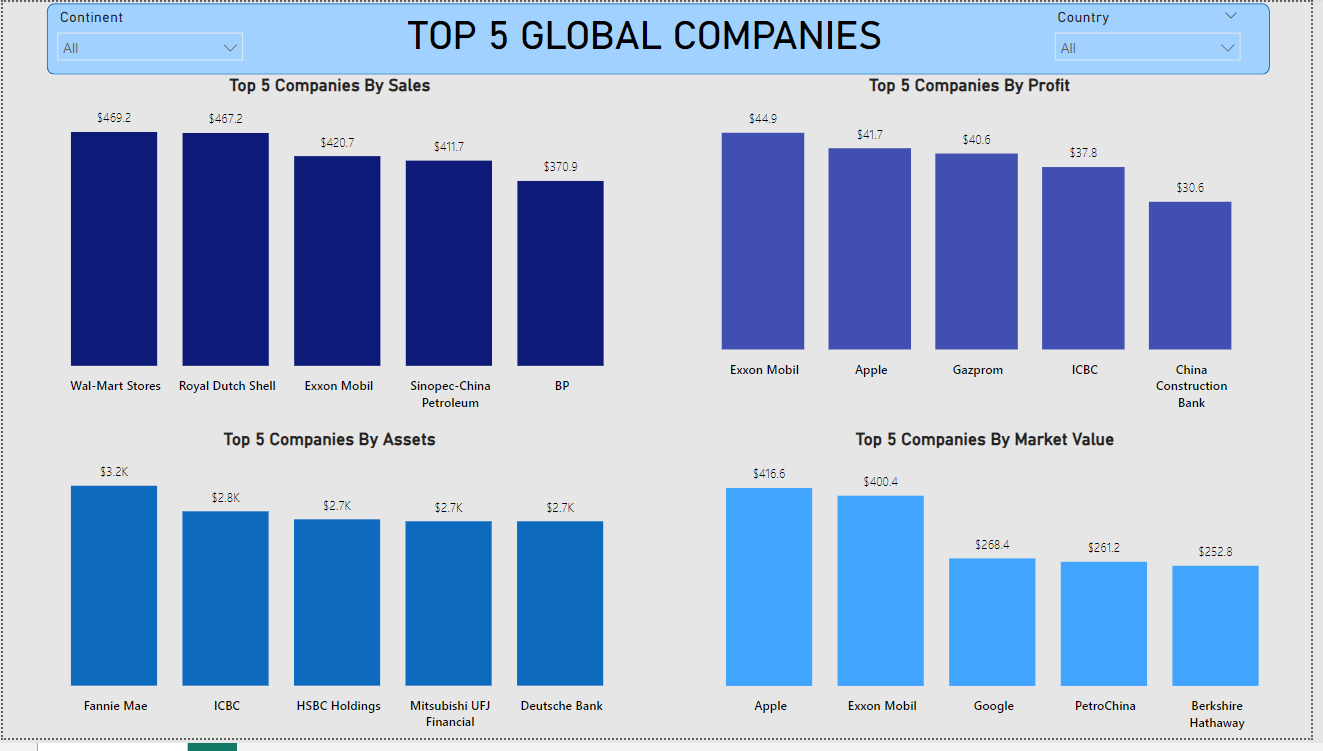

The page's visual inventory and layout, read from the dashboard file:
{"tool":"powerbi","page":{"name":"TOP 5 GLOBAL","canvas":[1280,720],"ordinal":0},"visuals":[{"type":"columnChart","title":"Top 5 Companies By Profit","fields":{"Y":["Sum(Top2000CompaniesGlobally.Profits ($billion))"],"Category":["Top2000CompaniesGlobally.Company"]},"box":[639.5,71.4,612,336.2],"z":0},{"type":"columnChart","title":"Top 5 Companies By Sales","fields":{"Y":["Sum(Top2000CompaniesGlobally.Sales ($billion))"],"Category":["Top2000CompaniesGlobally.Company"]},"box":[0,71.4,639.5,336.2],"z":1},{"type":"columnChart","title":"Top 5 Companies By Assets","fields":{"Category":["Top2000CompaniesGlobally.Company"],"Y":["Sum(Top2000CompaniesGlobally.Assets ($billion))"]},"box":[0,417,639,303],"z":2},{"type":"columnChart","title":"Top 5 Companies By Market Value","fields":{"Category":["Top2000CompaniesGlobally.Company"],"Y":["Sum(Top2000CompaniesGlobally.Market Value ($billion))"]},"box":[640.8,417.2,639.5,303.3],"z":3},{"type":"shape","box":[42.5,1.4,1196.6,70],"z":4},{"type":"textbox","title":"TOP 5 GLOBAL COMPANIES ","box":[389.7,9.6,499.5,53.5],"z":5},{"type":"slicer","fields":{"Values":["Top2000CompaniesGlobally.Country"]},"box":[1018.2,1.4,201.7,70],"z":6},{"type":"slicer","fields":{"Values":["Top2000CompaniesGlobally.Continent"]},"box":[42.5,1.4,201.7,70],"z":7}]}

Visuals, with their boxes in screenshot pixels (x1, y1, x2, y2), scaled from the page's 1280x720 canvas onto the 1323x751 screenshot:
"Top 5 Companies By Profit" columnChart: pyautogui.locateOnScreen(661, 74, 1294, 425)
"Top 5 Companies By Sales" columnChart: pyautogui.locateOnScreen(0, 74, 661, 425)
"Top 5 Companies By Assets" columnChart: pyautogui.locateOnScreen(0, 435, 660, 750)
"Top 5 Companies By Market Value" columnChart: pyautogui.locateOnScreen(662, 435, 1322, 750)
shape: pyautogui.locateOnScreen(44, 1, 1281, 74)
"TOP 5 GLOBAL COMPANIES " textbox: pyautogui.locateOnScreen(403, 10, 919, 66)
slicer - Top2000CompaniesGlobally.Country: pyautogui.locateOnScreen(1052, 1, 1261, 74)
slicer - Top2000CompaniesGlobally.Continent: pyautogui.locateOnScreen(44, 1, 252, 74)
